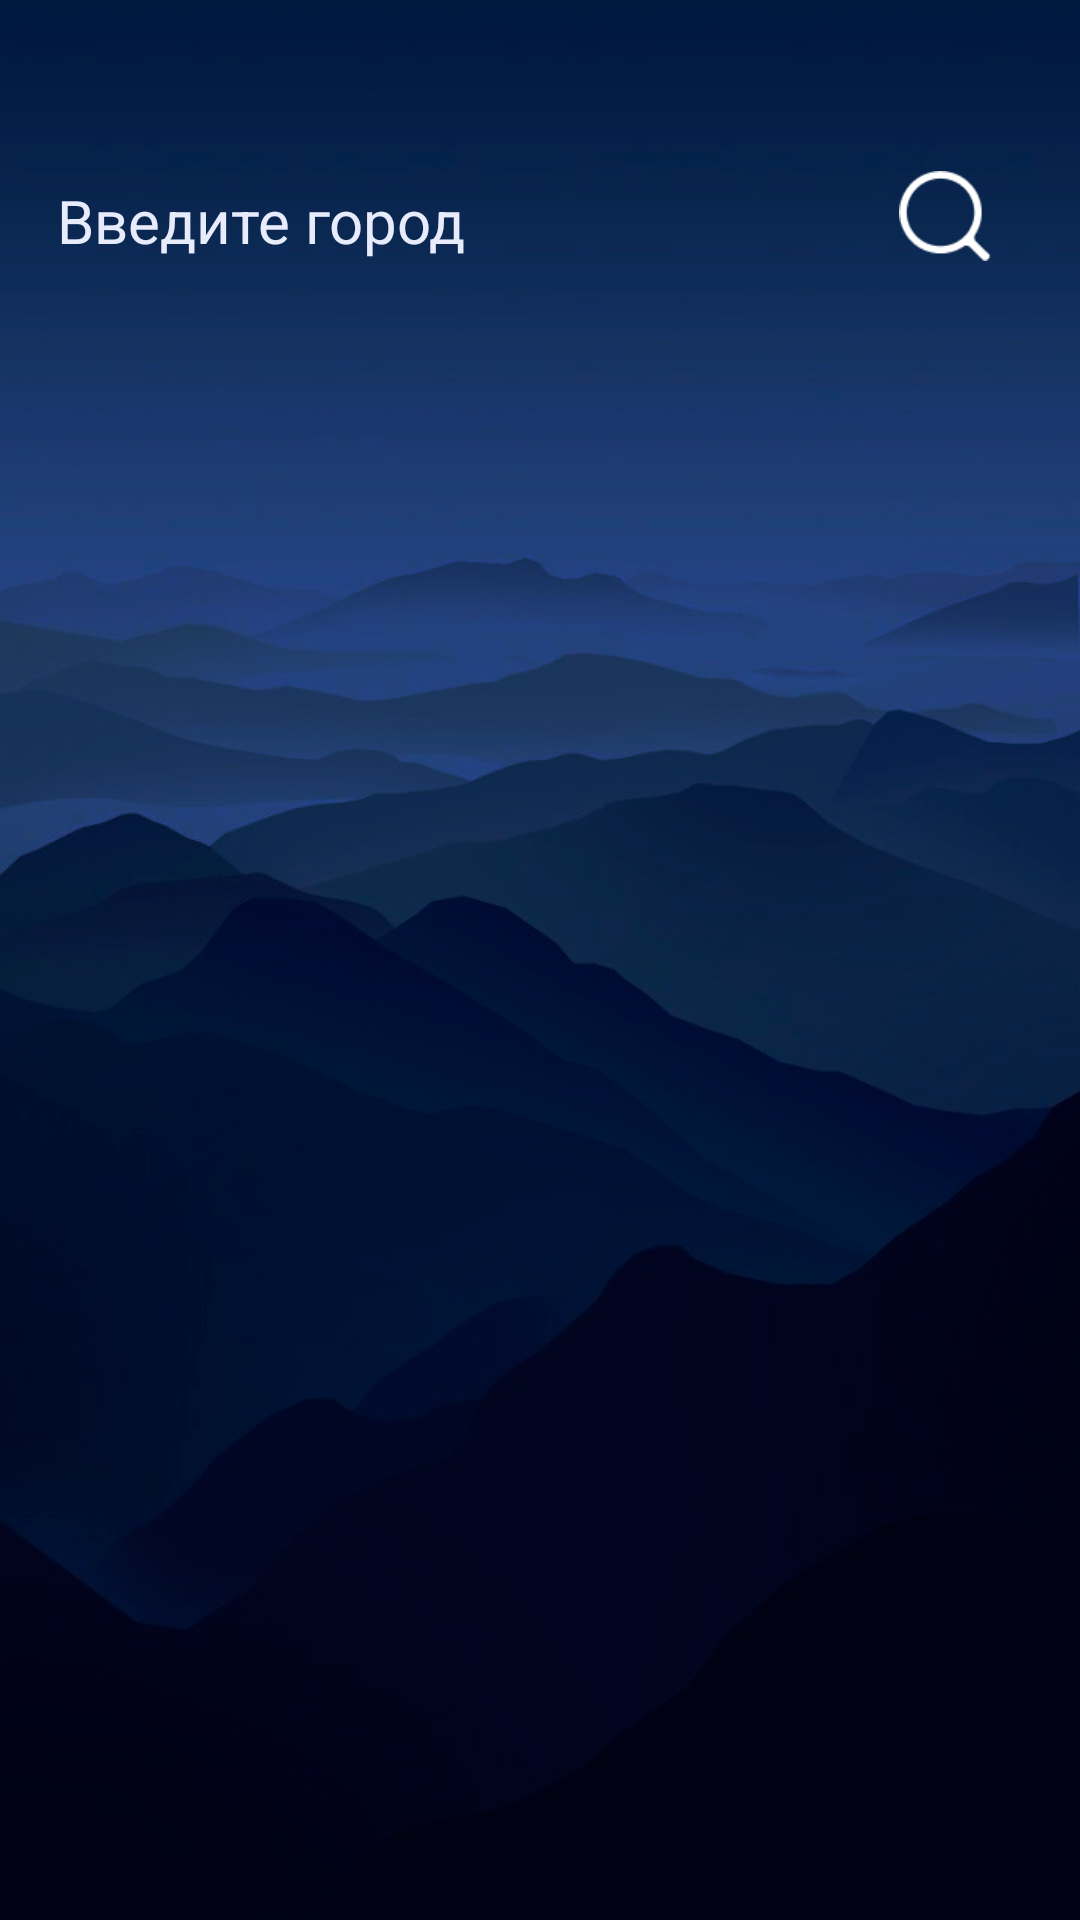

Named icons in this screenshot (1080 × 1920) and their bounding boxes, detection(x1, y1, x2, y2):
whitelupa: detection(899, 171, 991, 261)
